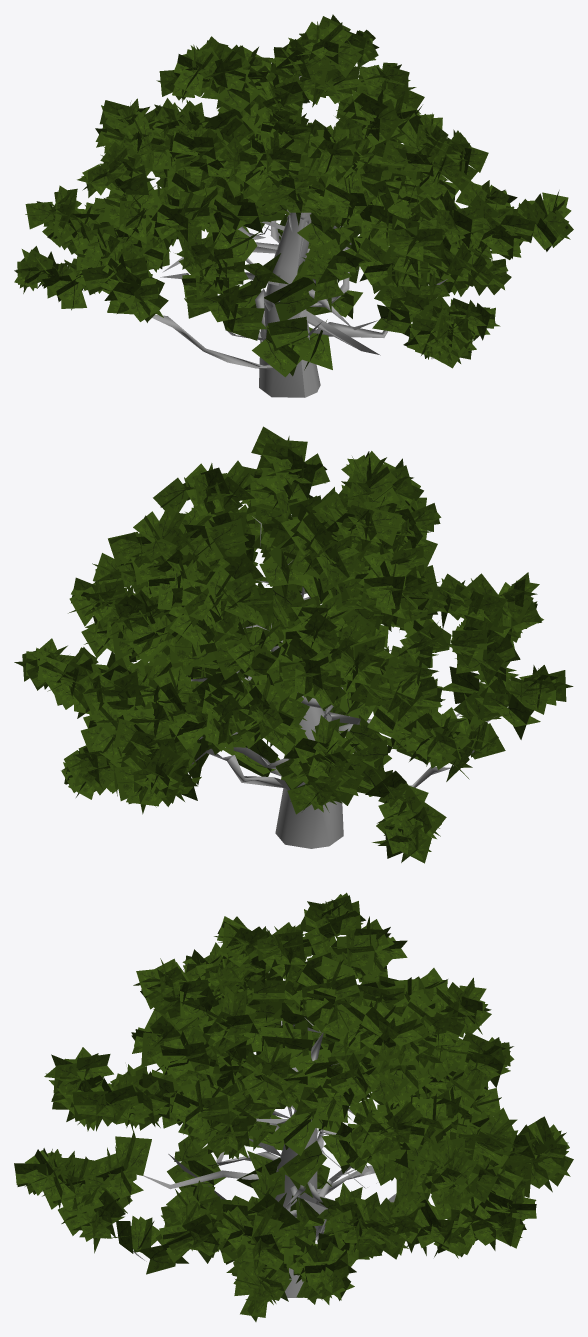
The model's file is oak8 lod1.FBX.
3 renders of one model, top to bottom at view 1: azimuth 30°, elevation 25°; view 2: azimuth 150°, elevation 25°; view 3: azimuth 270°, elevation 25°, orthographic. The views are drawn at different scales.
Visible parts, largest first — view 1: oak8_LOD1; view 2: oak8_LOD1; view 3: oak8_LOD1.
Part boxes in pixels (<box>): oak8_LOD1: <box>14,14,573,397</box>; oak8_LOD1: <box>14,426,573,863</box>; oak8_LOD1: <box>14,892,573,1321</box>.
Size of the model in its own units: 202622 by 151846 by 205503.
